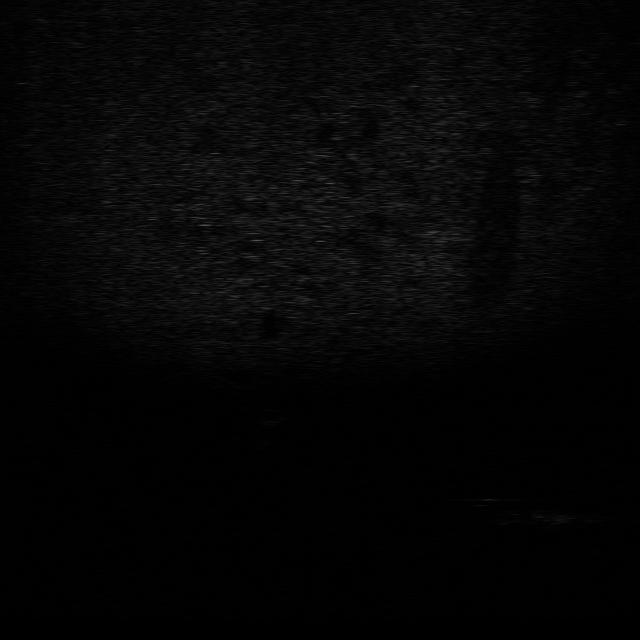ball: (255, 406, 289, 427)
metal bucket: (528, 509, 588, 529)
tyre: (470, 495, 529, 527)
